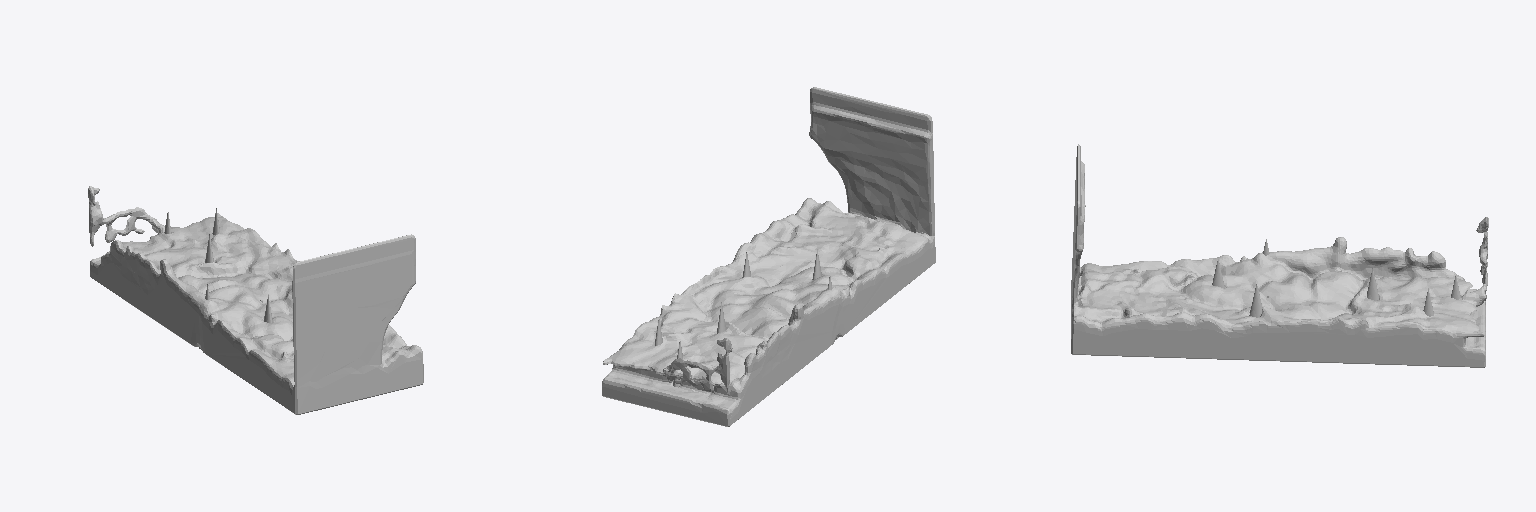
The picture shows the model from 3 angles: view 1: azimuth 30°, elevation 25°; view 2: azimuth 150°, elevation 25°; view 3: azimuth 270°, elevation 25°; orthographic projection.
Visible parts, largest first — view 1: Liquid_Domain; view 2: Liquid_Domain; view 3: Liquid_Domain.
Boxes of the visible parts, x1,y1,x2,y2 form: Liquid_Domain: [88, 186, 423, 414]; Liquid_Domain: [602, 87, 935, 426]; Liquid_Domain: [1071, 144, 1488, 367].
Size of the model in its own units: 129 by 158 by 363.